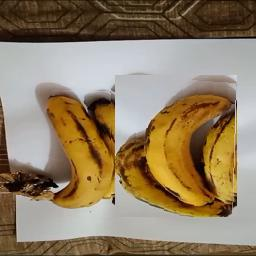Banana Semifresh: (116, 75, 238, 217), (36, 89, 112, 217)
